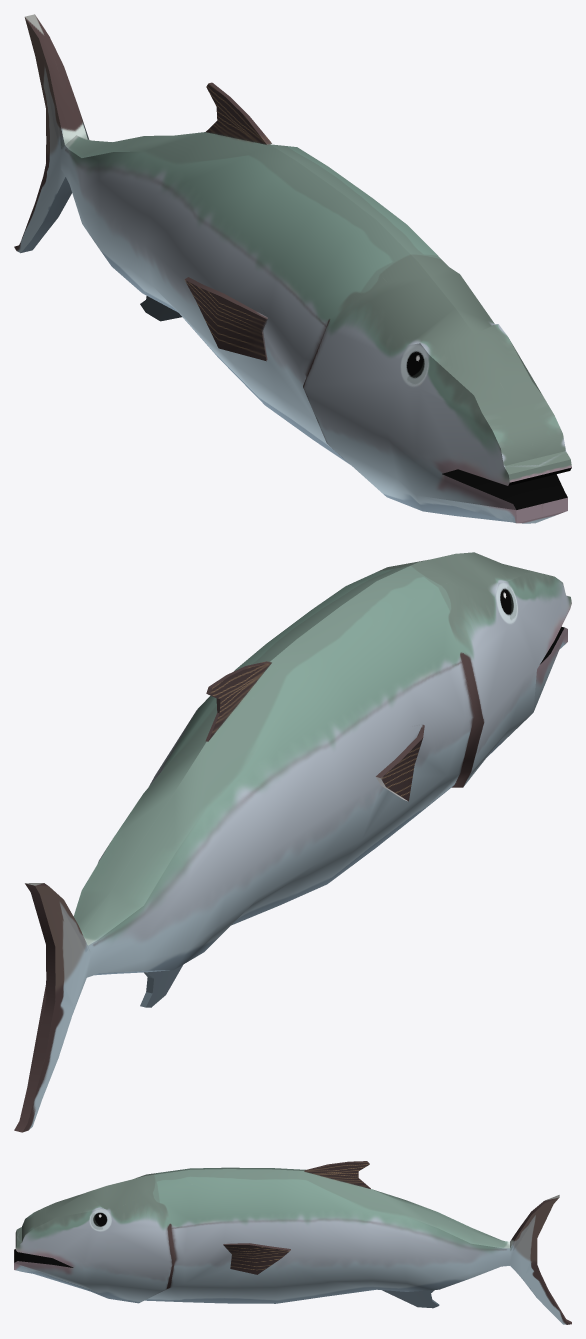
Rendered from Seriola_dumerili.fbx.
The picture shows the model from 3 angles, top to bottom: view 1: azimuth 30°, elevation 25°; view 2: azimuth 150°, elevation 25°; view 3: azimuth 270°, elevation 25°; orthographic projection. The views are drawn at different scales.
Visible parts, largest first — view 1: Serviola; view 2: Serviola; view 3: Serviola.
Part boxes in pixels (x1=…): Serviola: x1=14, y1=14, x2=571, y2=523; Serviola: x1=14, y1=552, x2=571, y2=1132; Serviola: x1=14, y1=1161, x2=571, y2=1324.
Bounding box in the file's own units: 77.54 × 111 × 347.
Materials: 1 (1 with a texture image).
